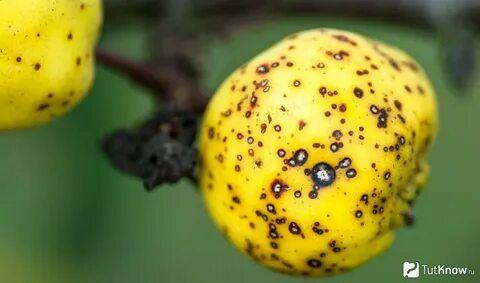Apple: (199, 31, 442, 274)
